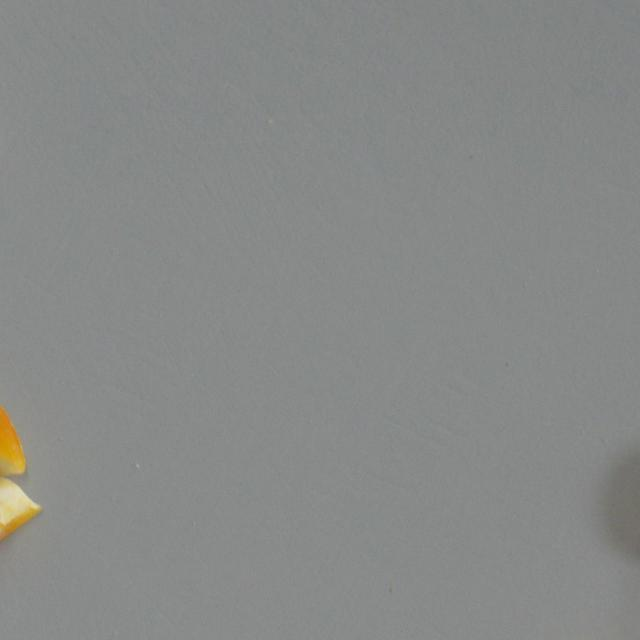pelicula: (0, 368, 25, 516), (0, 458, 25, 578)
